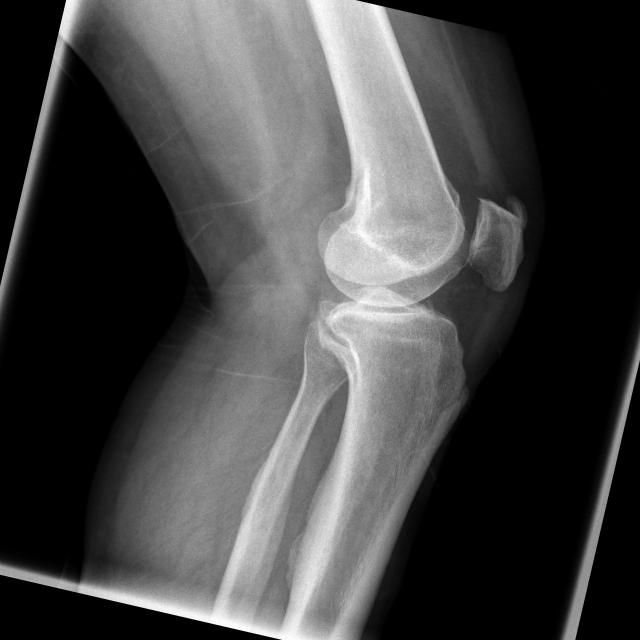Knee: (284, 157, 534, 426)
